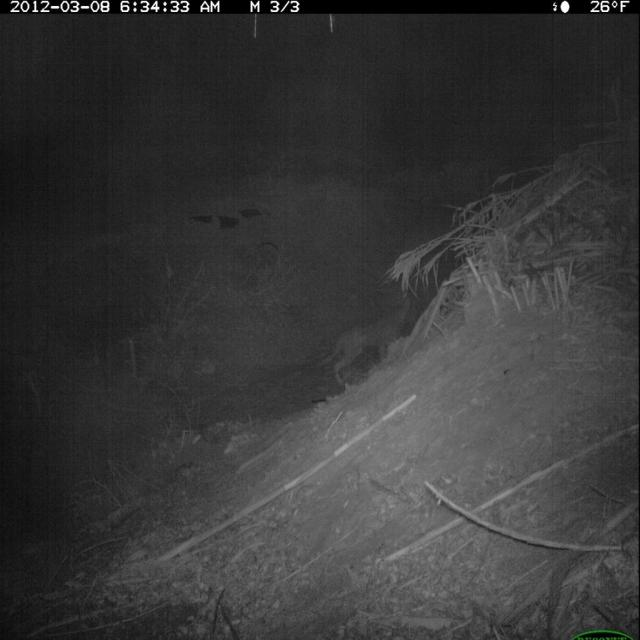coyote: (316, 294, 417, 394)
